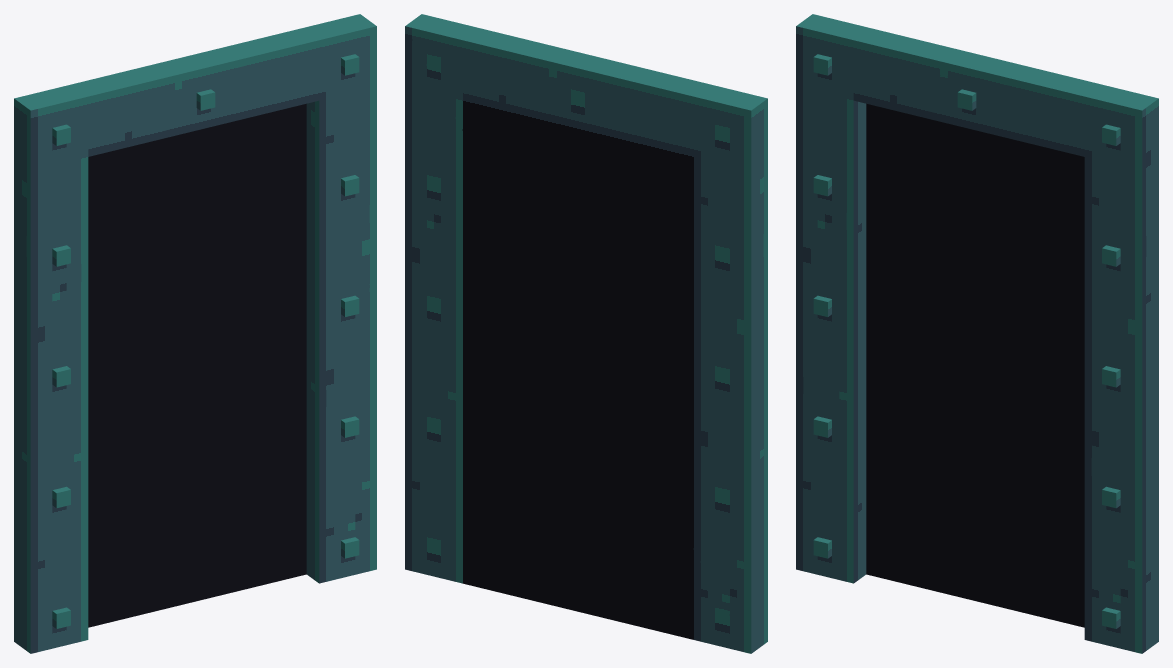
File: nuzu_big_doorao.fezao.glb
The picture shows the model from 3 angles, left to right: view 1: azimuth 30°, elevation 25°; view 2: azimuth 150°, elevation 25°; view 3: azimuth 330°, elevation 25°; orthographic projection.
Visible parts, largest first — view 1: NUZU_BIG_DOORAO; view 2: NUZU_BIG_DOORAO; view 3: NUZU_BIG_DOORAO.
Part boxes in pixels (x1,y1,x2,y2): NUZU_BIG_DOORAO: (14, 14, 376, 653); NUZU_BIG_DOORAO: (405, 14, 767, 653); NUZU_BIG_DOORAO: (796, 14, 1158, 653).
Size of the model in its own units: 3 by 4.5 by 0.3125.
Materials: 1 (1 with a texture image).
